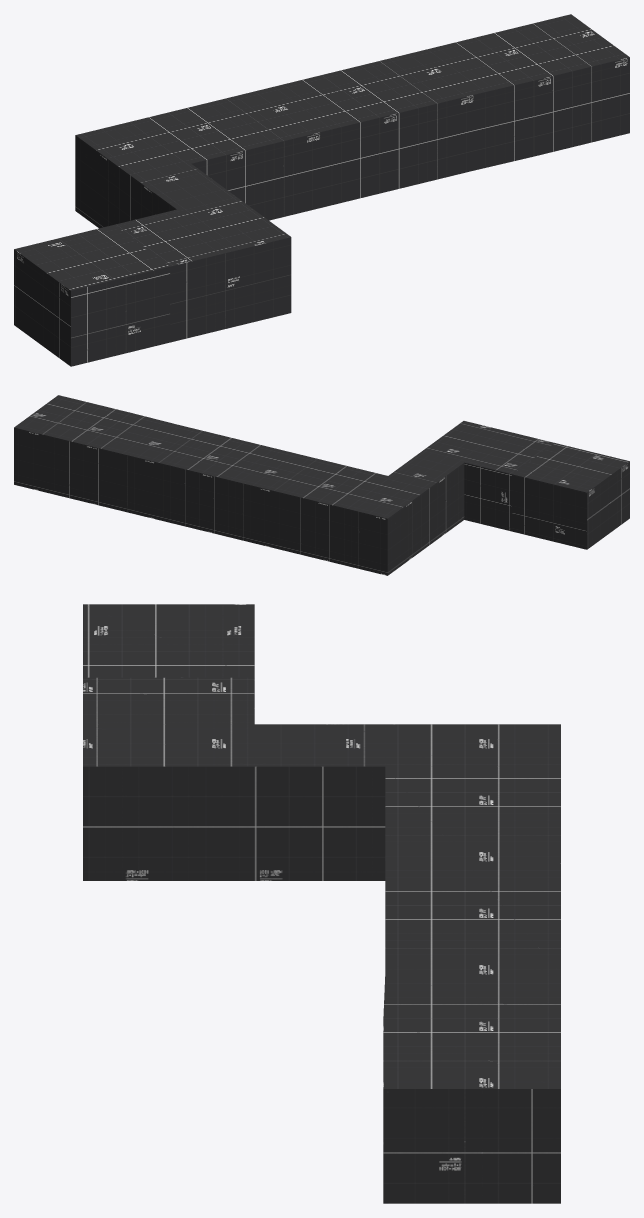
Rendered from Bind_Ceil.fbx.
3 views of the same model, one above another, from view 1: azimuth 30°, elevation 25°; view 2: azimuth 150°, elevation 25°; view 3: azimuth 270°, elevation 25° (orthographic). The views are drawn at different scales.
Parts seen in each view (by area): view 1: Plane.004; view 2: Plane.004; view 3: Plane.004.
Boxes of the visible parts, x1=… form: Plane.004: x1=14, y1=14, x2=629, y2=366; Plane.004: x1=14, y1=395, x2=629, y2=575; Plane.004: x1=83, y1=604, x2=560, y2=1203.
Size of the model in its own units: 25.42 by 2.8 by 10.59.
